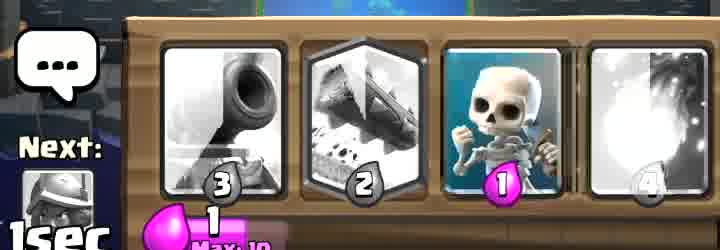musketeer: (449, 50, 563, 202)
